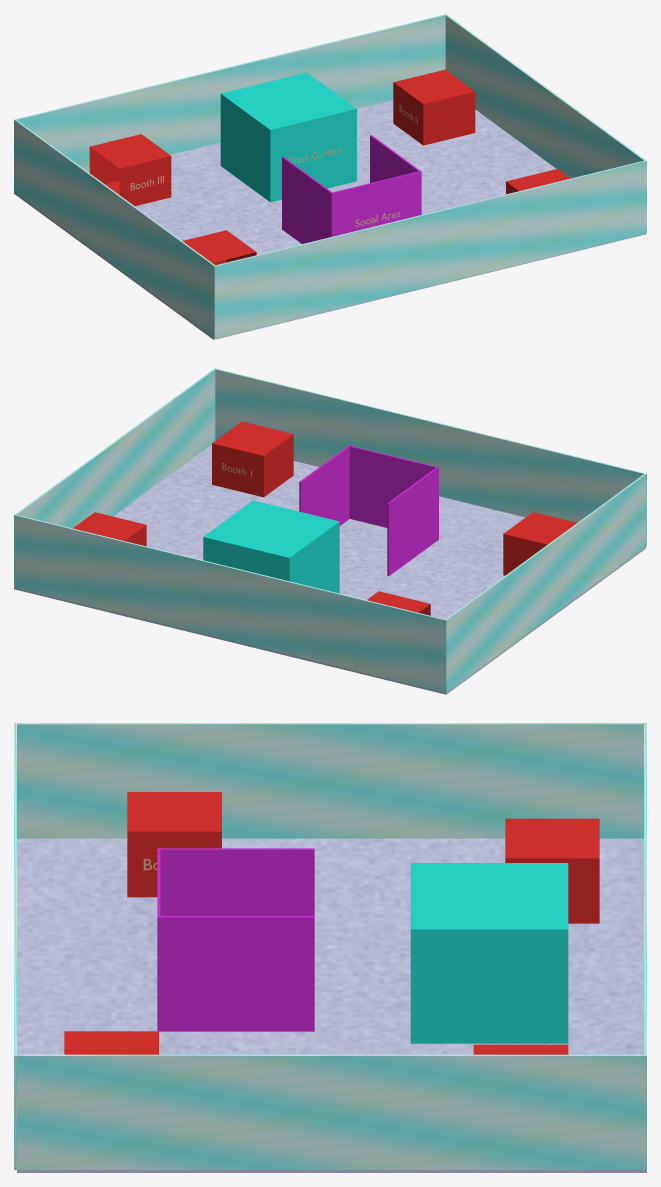
Rendered from demo_scene.glb.
3 renders of one model, top to bottom at view 1: azimuth 30°, elevation 25°; view 2: azimuth 150°, elevation 25°; view 3: azimuth 270°, elevation 25°, orthographic. The views are drawn at different scales.
Visible parts, largest first — view 1: Wall_D, Wall_U, Floor, Wall_L, Glass_Garden, Wall_R, Social_Area, Booth_2, Booth_3, Booth_4, Booth_1; view 2: Wall_U, Wall_D, Floor, Wall_L, Wall_R, Social_Area, Glass_Garden, Booth_1, Booth_4, Booth_2, Booth_3; view 3: Wall_R, Floor, Wall_L, Social_Area, Glass_Garden, Booth_4, Booth_3, Booth_1, Wall_D, Wall_U, Booth_2.
Part boxes in pixels (x1,y1,x2,y2): Wall_D: [213, 160, 646, 338]; Wall_U: [16, 14, 446, 172]; Floor: [14, 100, 645, 339]; Wall_L: [14, 119, 214, 337]; Glass_Garden: [220, 72, 356, 202]; Wall_R: [445, 14, 645, 178]; Social_Area: [282, 135, 421, 243]; Booth_2: [393, 69, 475, 145]; Booth_3: [89, 134, 171, 205]; Booth_4: [182, 230, 256, 265]; Booth_1: [506, 169, 570, 194]; Wall_U: [14, 514, 445, 692]; Wall_D: [214, 368, 646, 546]; Floor: [14, 444, 645, 694]; Wall_L: [444, 474, 645, 692]; Wall_R: [14, 369, 215, 587]; Social_Area: [299, 445, 438, 575]; Glass_Garden: [203, 500, 339, 593]; Booth_1: [212, 421, 293, 497]; Booth_4: [503, 512, 577, 575]; Booth_2: [73, 512, 146, 546]; Booth_3: [367, 591, 430, 615]; Wall_R: [17, 1054, 646, 1169]; Floor: [17, 838, 646, 1172]; Wall_L: [17, 723, 646, 838]; Social_Area: [157, 848, 314, 1031]; Glass_Garden: [410, 863, 568, 1043]; Booth_4: [127, 792, 221, 897]; Booth_3: [505, 818, 599, 923]; Booth_1: [64, 1031, 158, 1054]; Wall_D: [14, 723, 16, 1169]; Wall_U: [644, 724, 646, 1169]; Booth_2: [473, 1044, 568, 1054].
Bounding box in the file's own units: 25 × 4.1 × 20.1.
Materials: 6 (2 with a texture image).
